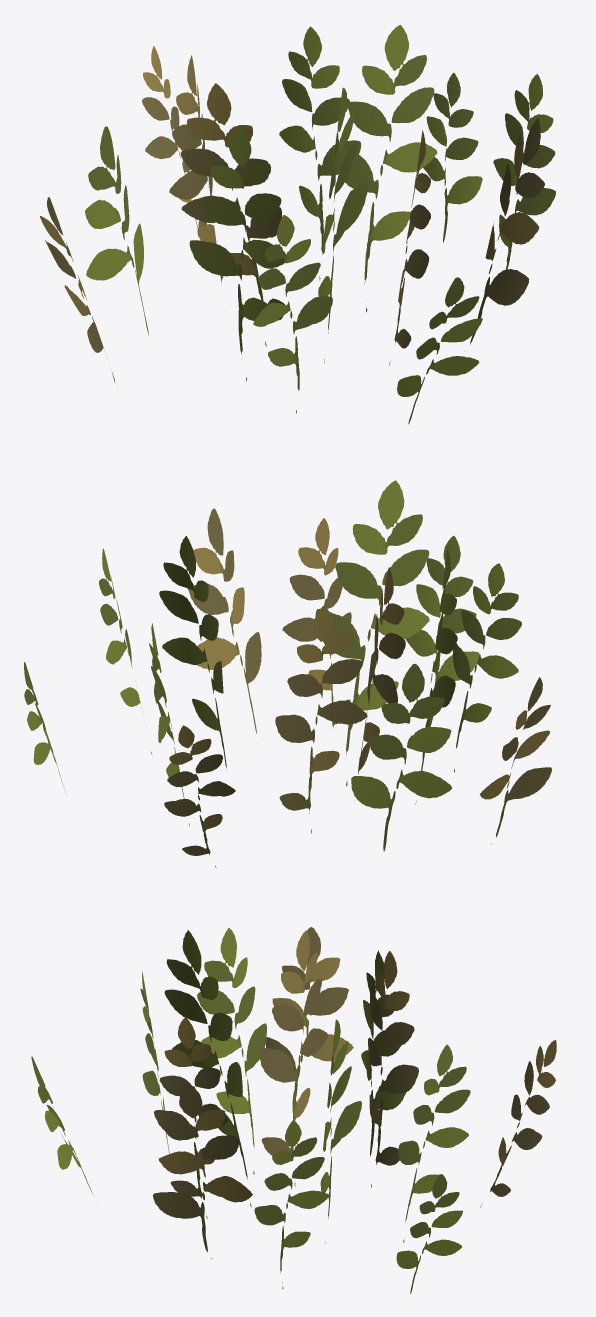
The model's file is Green_Patch_3.fbx.
3 views of the same model, one above another, from view 1: azimuth 30°, elevation 25°; view 2: azimuth 150°, elevation 25°; view 3: azimuth 270°, elevation 25° (orthographic). The views are drawn at different scales.
Visible parts, largest first — view 1: Green_Patch_3; view 2: Green_Patch_3; view 3: Green_Patch_3.
Part boxes in pixels (left/top/right/bottom): Green_Patch_3: left=40, top=25, right=555, bottom=424; Green_Patch_3: left=24, top=480, right=551, bottom=867; Green_Patch_3: left=31, top=927, right=556, bottom=1293.
Bounding box in the file's own units: 96.73 × 57.66 × 103.
1 material, 1 textured.
